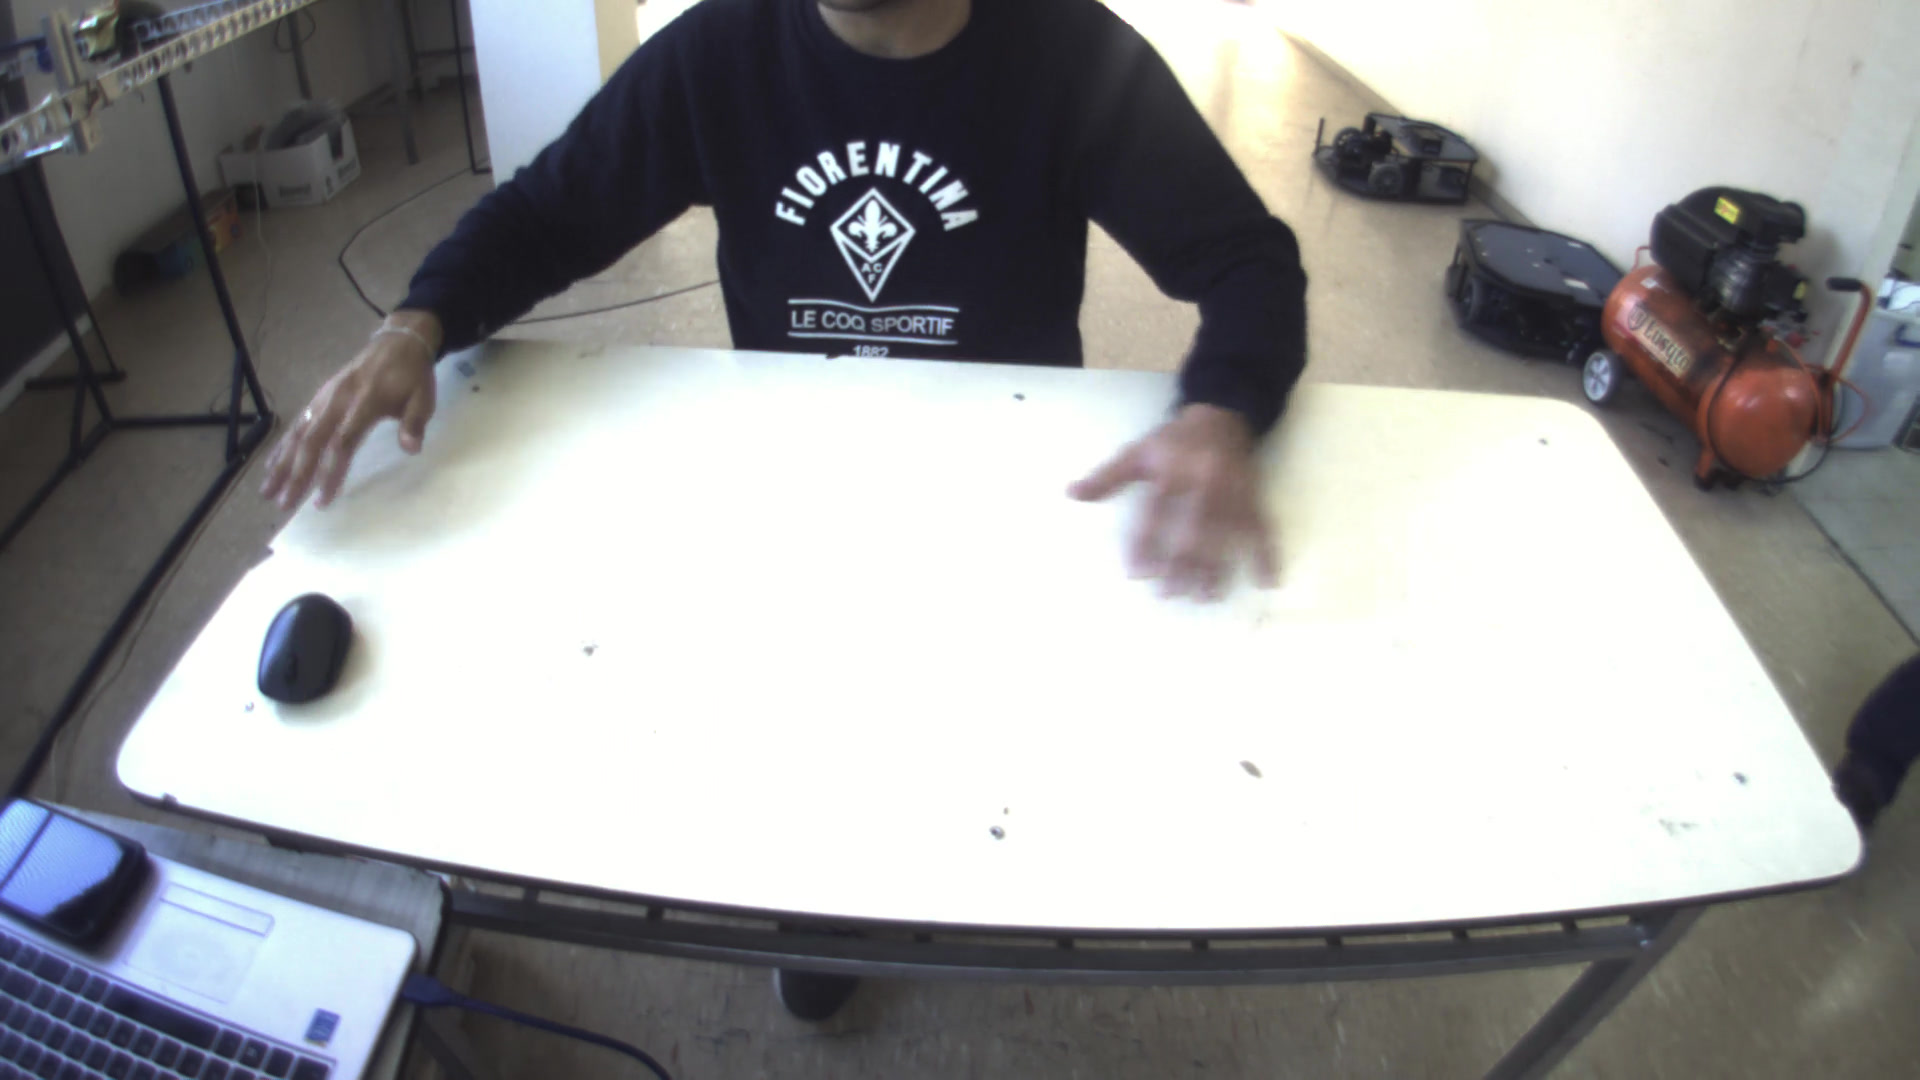hand: (1064, 393, 1304, 612), (243, 313, 439, 517)
